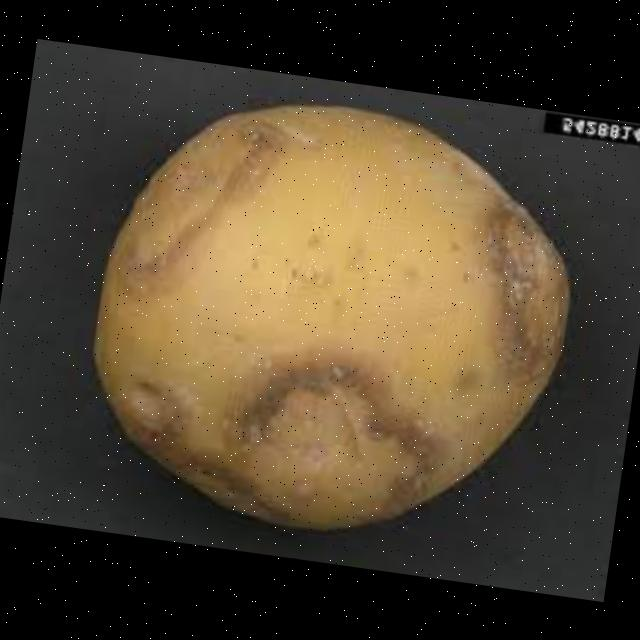Diseased-fungal potato: (68, 71, 606, 570)
